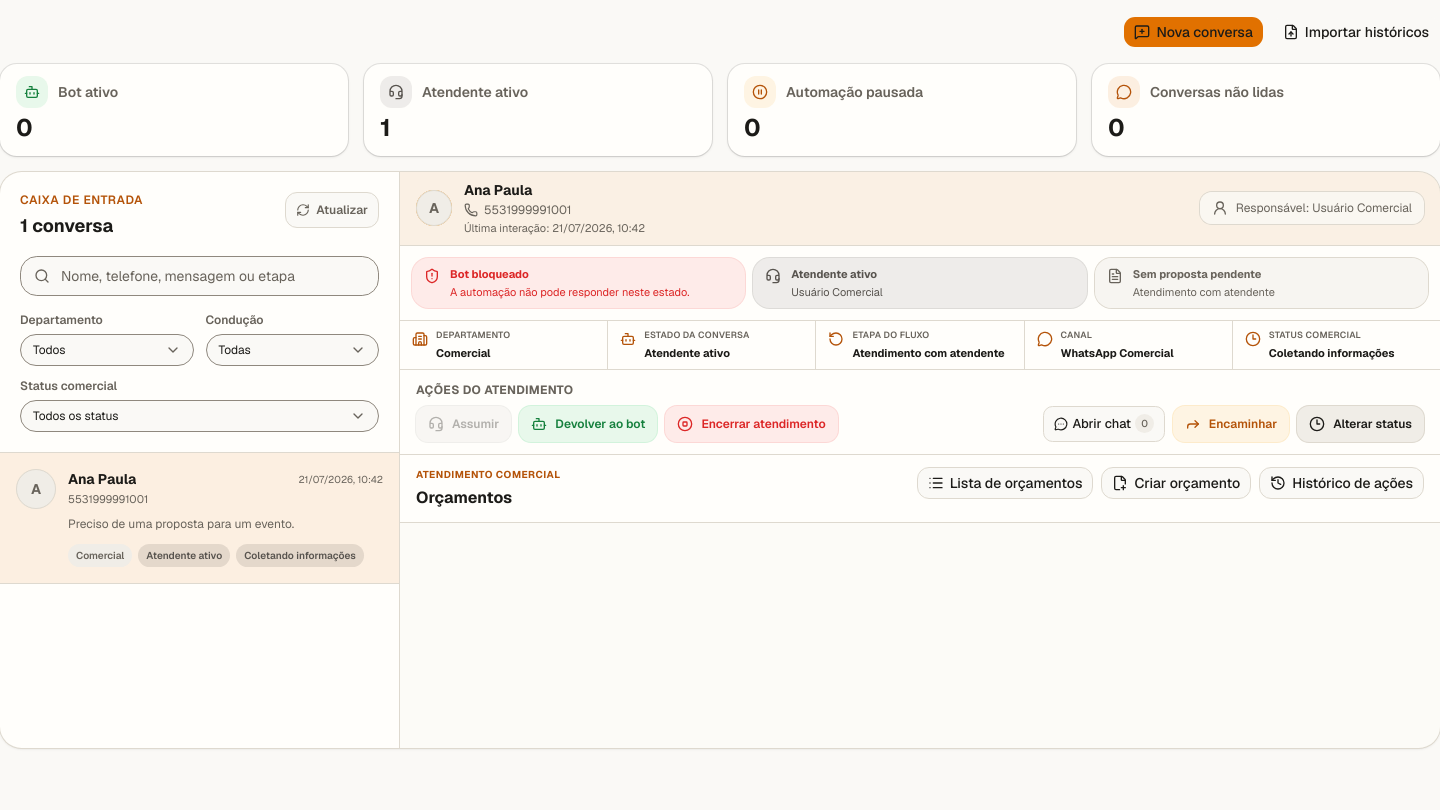
Test: ConversationWorkspace › sends a human message with optimistic version and shows its pending state
The width and height of the screenshot is (1440, 810).
Click the button named "Mensagens e anexos" at point(1104, 424), box [1043,406,1165,442]
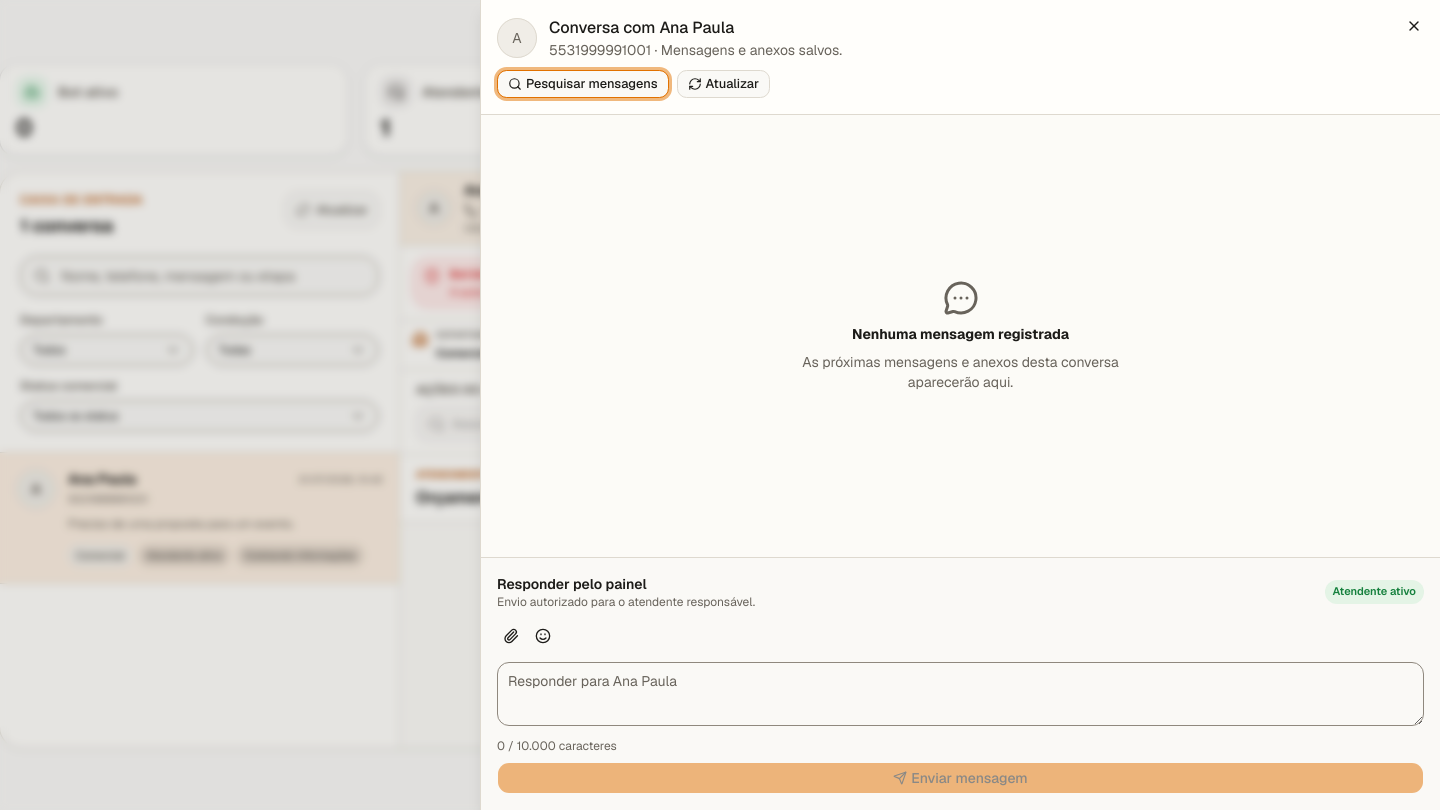
Now the text "Nenhuma mensagem registrada" is shown, box [852,324,1069,344]
Type "Seu orçamento está em análise." into the text box with placeholder "Responder para Ana Paula" at point(960, 694), box [497,662,1424,726]
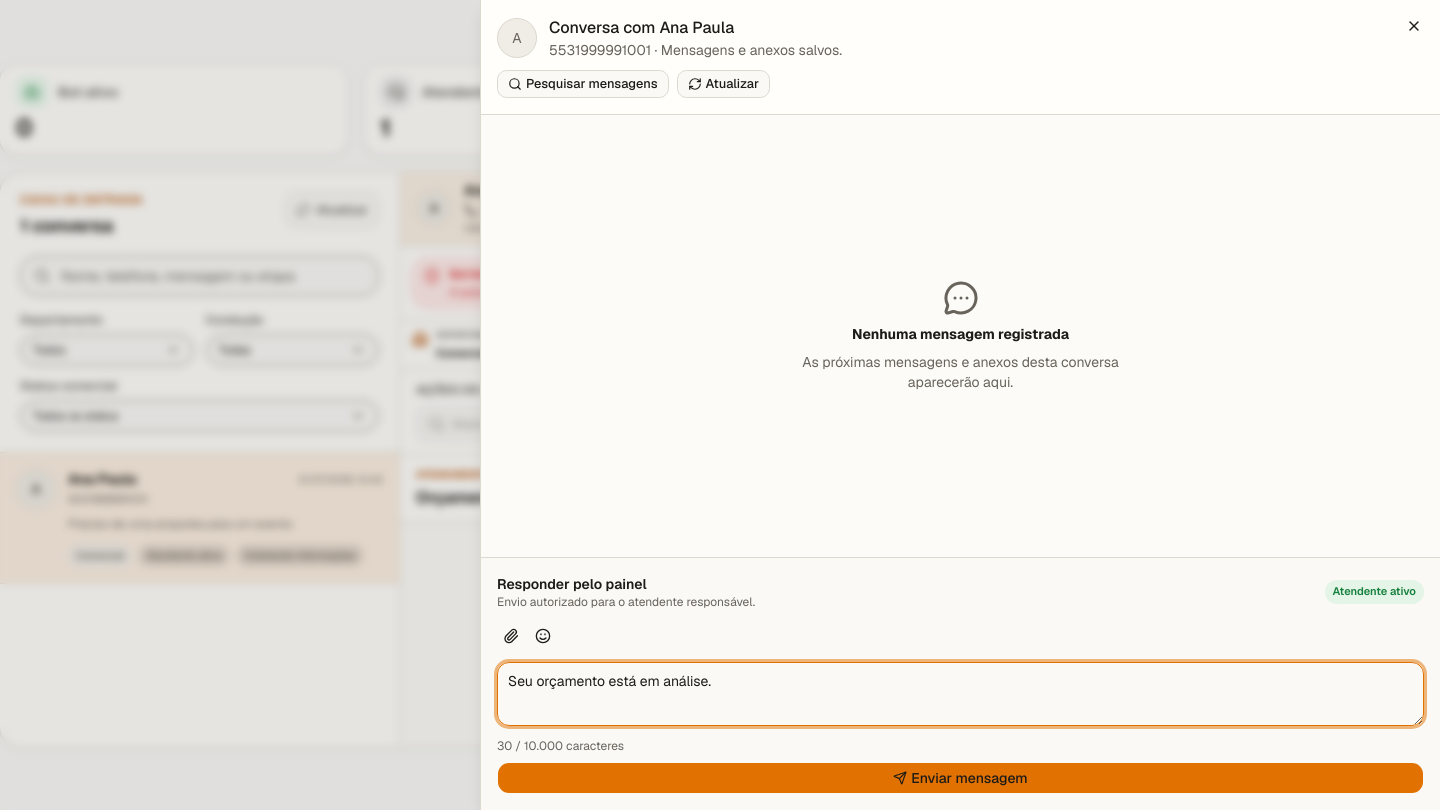
Click the button "Enviar mensagem" at point(960, 778), box [497,762,1424,794]
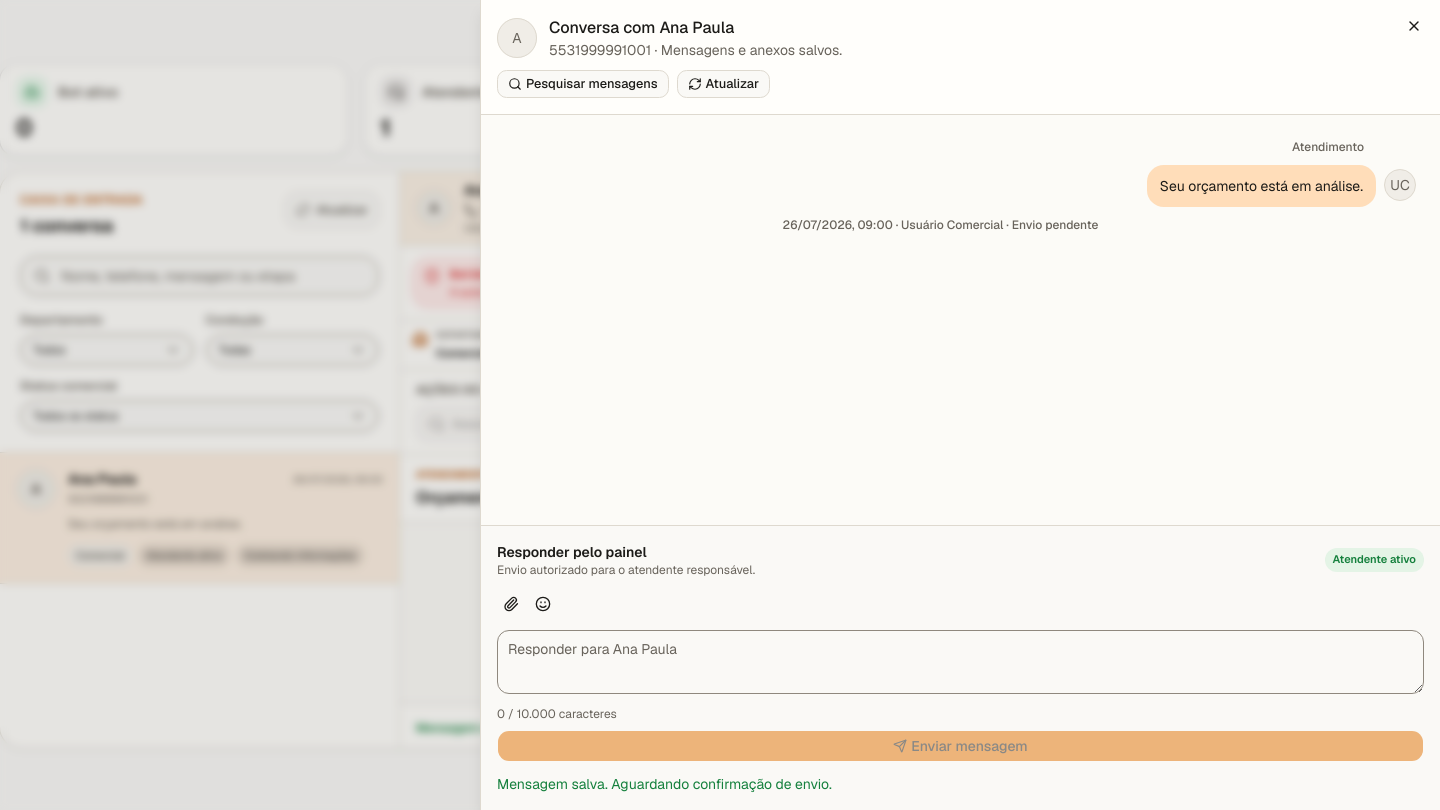
Expected: the text "Seu orçamento está em análise." is shown 2 times, [68,516,242,532]; [1160,174,1363,198]
Now the text "26/07/2026, 09:00 · Usuário Comercial · Envio pendente" is shown, box [783,217,1098,233]
